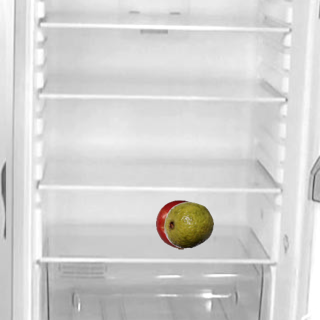Apple Braeburn: (155, 199, 205, 249)
Guava: (163, 199, 213, 249)
